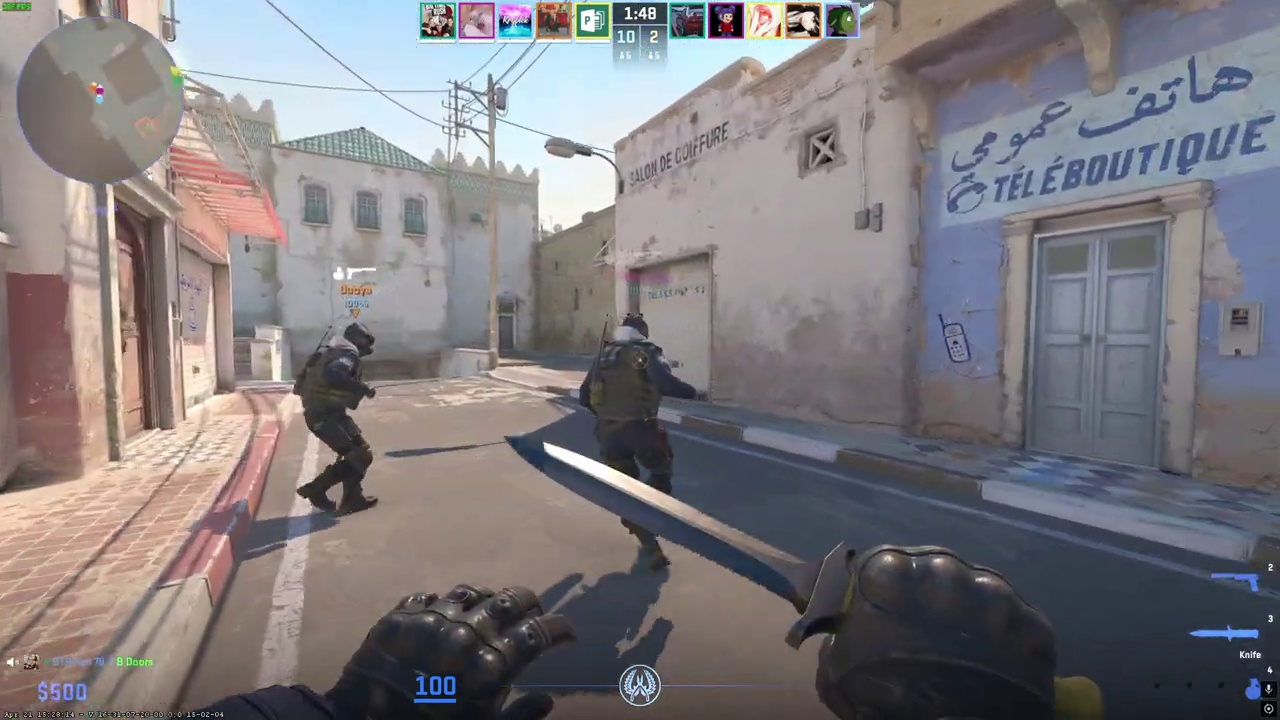CT: (589, 313, 683, 570), (294, 322, 378, 515)
